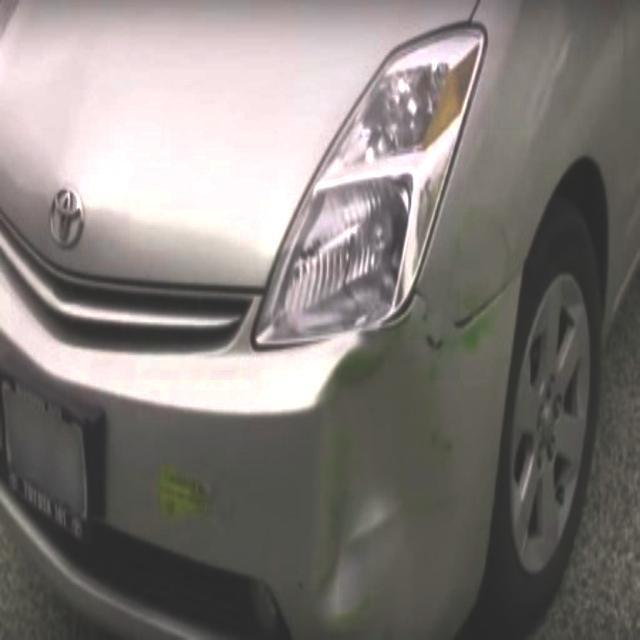minor: (318, 283, 459, 619)
